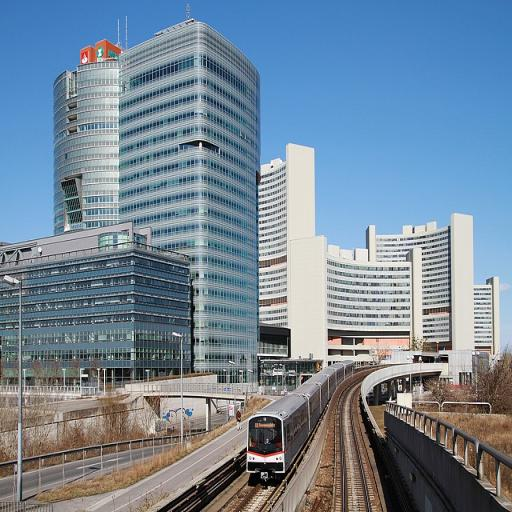V-Wagen: (242, 356, 356, 490)
